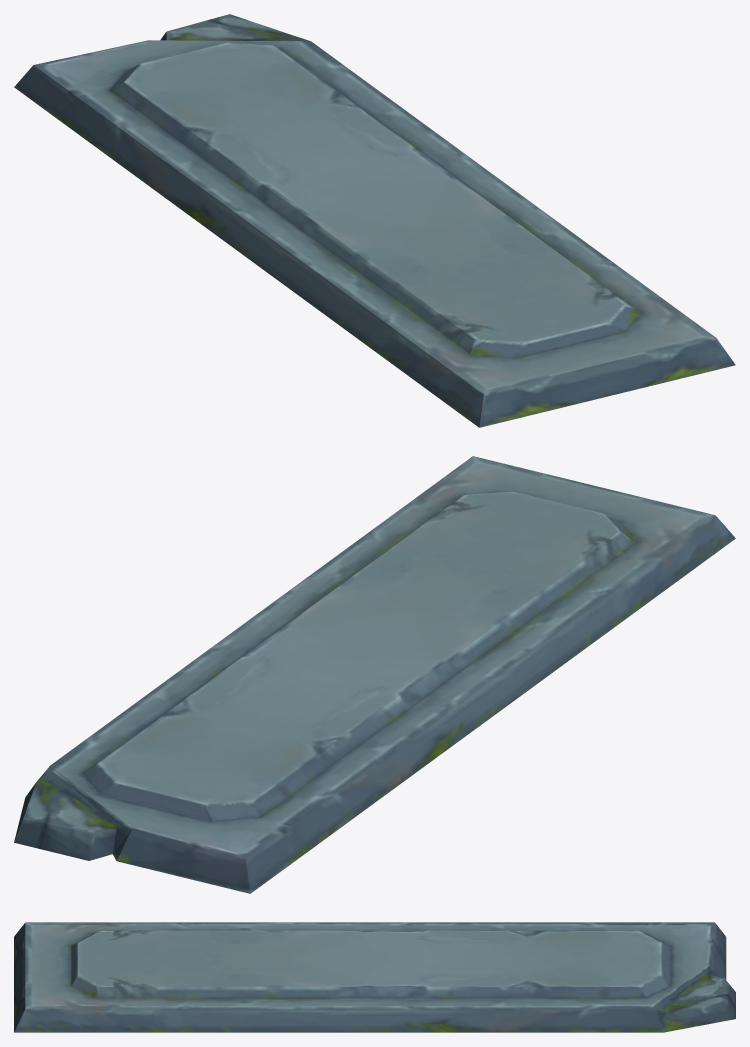
The model's file is fb_tys_zj_06_a.FBX.
3 renders of one model, top to bottom at view 1: azimuth 30°, elevation 25°; view 2: azimuth 150°, elevation 25°; view 3: azimuth 270°, elevation 25°, orthographic. The views are drawn at different scales.
Parts seen in each view (by area): view 1: fb_tys_zj_06_a; view 2: fb_tys_zj_06_a; view 3: fb_tys_zj_06_a.
Boxes of the visible parts, left/top/right/bottom form: fb_tys_zj_06_a: left=14, top=14, right=735, bottom=427; fb_tys_zj_06_a: left=14, top=456, right=735, bottom=893; fb_tys_zj_06_a: left=14, top=922, right=735, bottom=1032.
Bounding box in the file's own units: 208 × 26.06 × 661.
